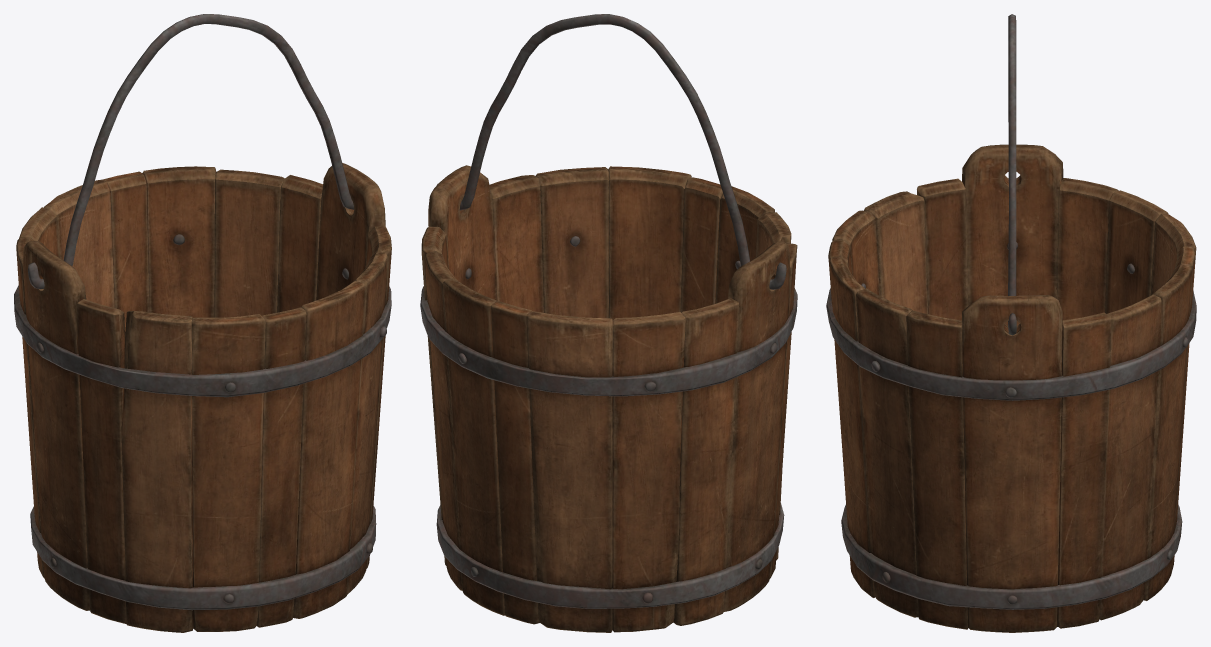
File: wooden_bucket_01.gltf
The picture shows the model from 3 angles, left to right: view 1: azimuth 30°, elevation 25°; view 2: azimuth 150°, elevation 25°; view 3: azimuth 270°, elevation 25°; orthographic projection.
Visible parts, largest first — view 1: wooden_bucket_01, wooden_bucket_01_handle; view 2: wooden_bucket_01, wooden_bucket_01_handle; view 3: wooden_bucket_01, wooden_bucket_01_handle.
Part boxes in pixels (x1=…): wooden_bucket_01: x1=14, y1=163, x2=391, y2=632; wooden_bucket_01_handle: x1=27, y1=14, x2=354, y2=289; wooden_bucket_01: x1=420, y1=165, x2=797, y2=632; wooden_bucket_01_handle: x1=437, y1=14, x2=786, y2=289; wooden_bucket_01: x1=826, y1=144, x2=1196, y2=632; wooden_bucket_01_handle: x1=1008, y1=14, x2=1016, y2=335.
Bounding box in the file's own units: 0.367 × 0.5499 × 0.3422.
Materials: 1 (1 with a texture image).
